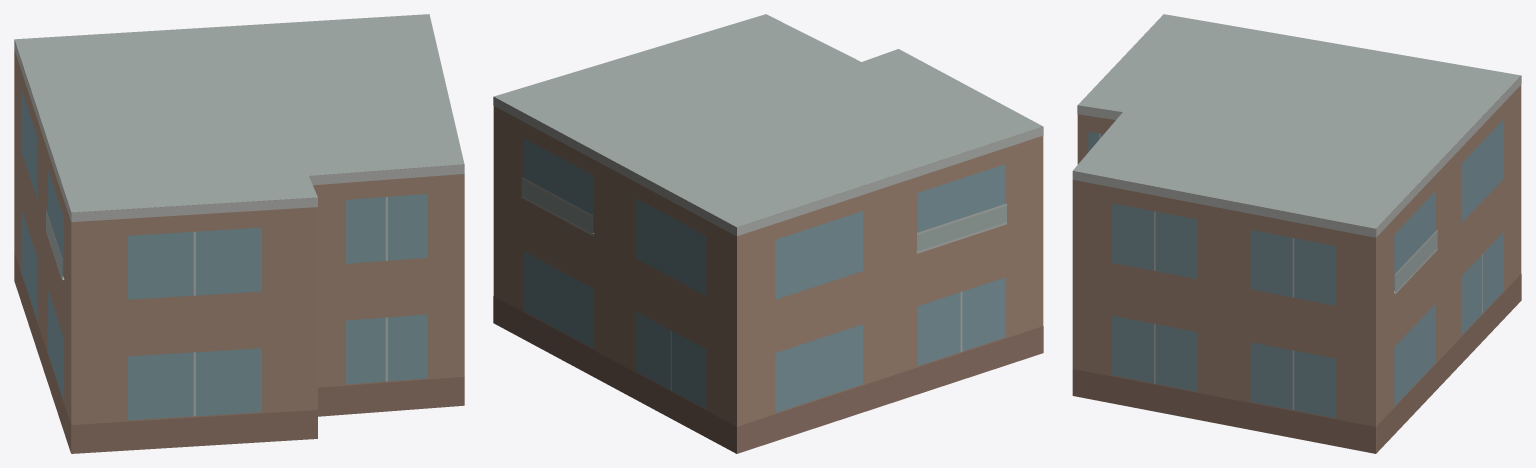
The model's file is survey-upis-32618548.glb.
3 views of the same model, side by side, from view 1: azimuth 30°, elevation 25°; view 2: azimuth 150°, elevation 25°; view 3: azimuth 270°, elevation 25° (orthographic). The views are drawn at different scales.
Parts seen in each view (by area): view 1: survey-upis-32618548.tmp; view 2: survey-upis-32618548.tmp; view 3: survey-upis-32618548.tmp.
Part boxes in pixels (<box>): survey-upis-32618548.tmp: <box>14,14,464,453</box>; survey-upis-32618548.tmp: <box>493,14,1043,453</box>; survey-upis-32618548.tmp: <box>1072,14,1521,453</box>.
Size of the model in its own units: 12.5 by 6.1 by 11.03.
